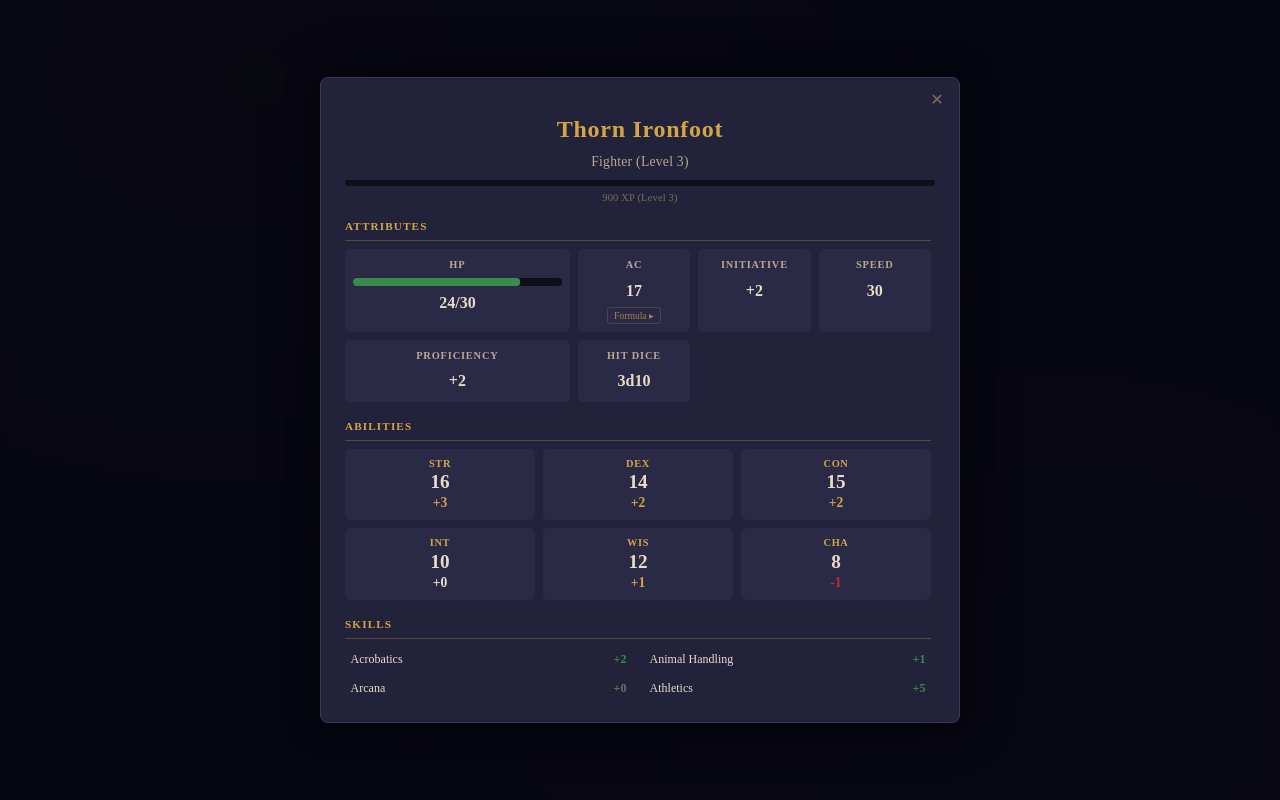
Test: CharacterDetailsModal › ability modifiers and saving throws › shows formula breakdown for expanded ability when available
This screenshot has width=1280, height=800.
Click the button "STR 16 +3". click: (440, 485)
box: [345,449,535,520]
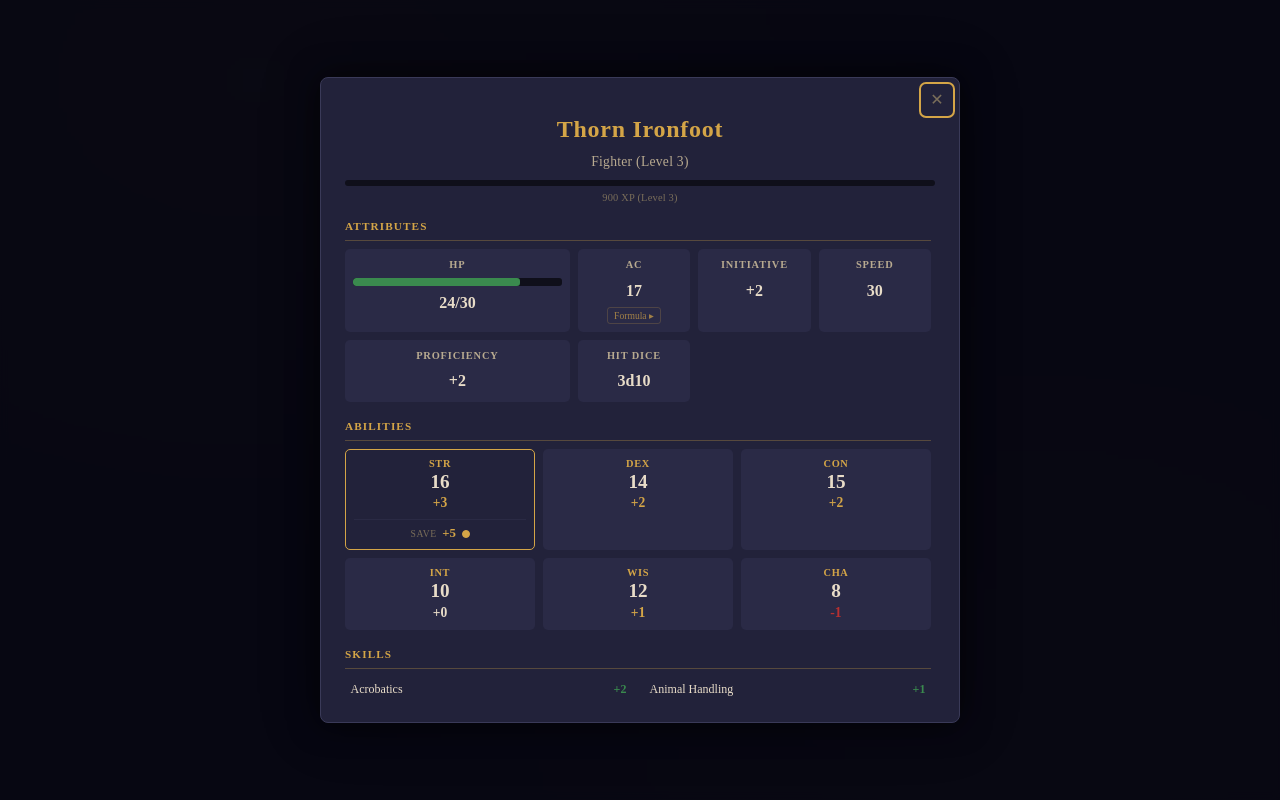
Check: the text "Save" is shown, box [410,528,437,539]
